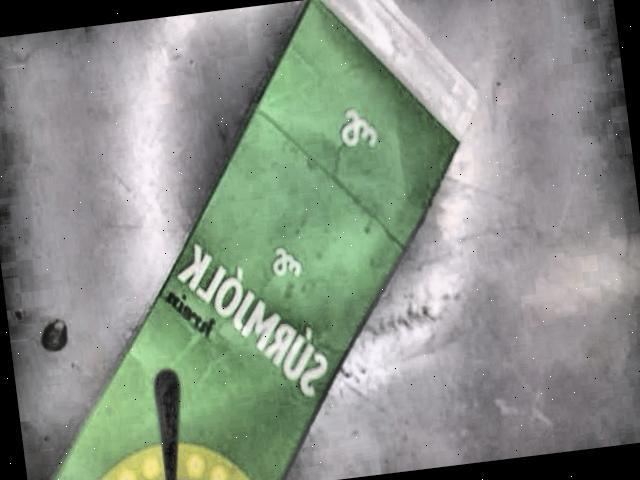Paper: (54, 0, 479, 480)
